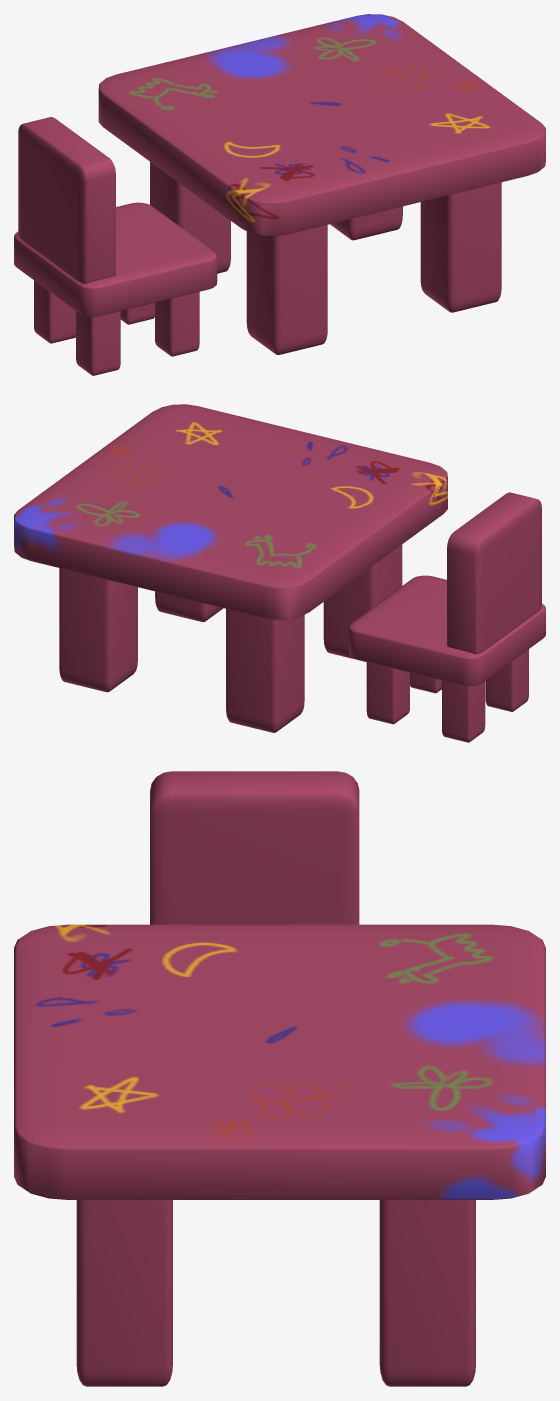
Rendered from lilatisch.fbx.
The picture shows the model from 3 angles, top to bottom: view 1: azimuth 30°, elevation 25°; view 2: azimuth 150°, elevation 25°; view 3: azimuth 270°, elevation 25°; orthographic projection. The views are drawn at different scales.
Parts seen in each view (by area): view 1: Bein2, Bein1.001; view 2: Bein2, Bein1.001; view 3: Bein2, Bein1.001.
Boxes of the visible parts, <box> form: Bein2: <box>98,14,545,354</box>; Bein1.001: <box>14,117,217,375</box>; Bein2: <box>14,404,447,732</box>; Bein1.001: <box>349,492,545,742</box>; Bein2: <box>14,924,545,1386</box>; Bein1.001: <box>150,771,359,924</box>.
Bounding box in the file's own units: 289 × 135 × 200.
2 materials, 2 textured.
